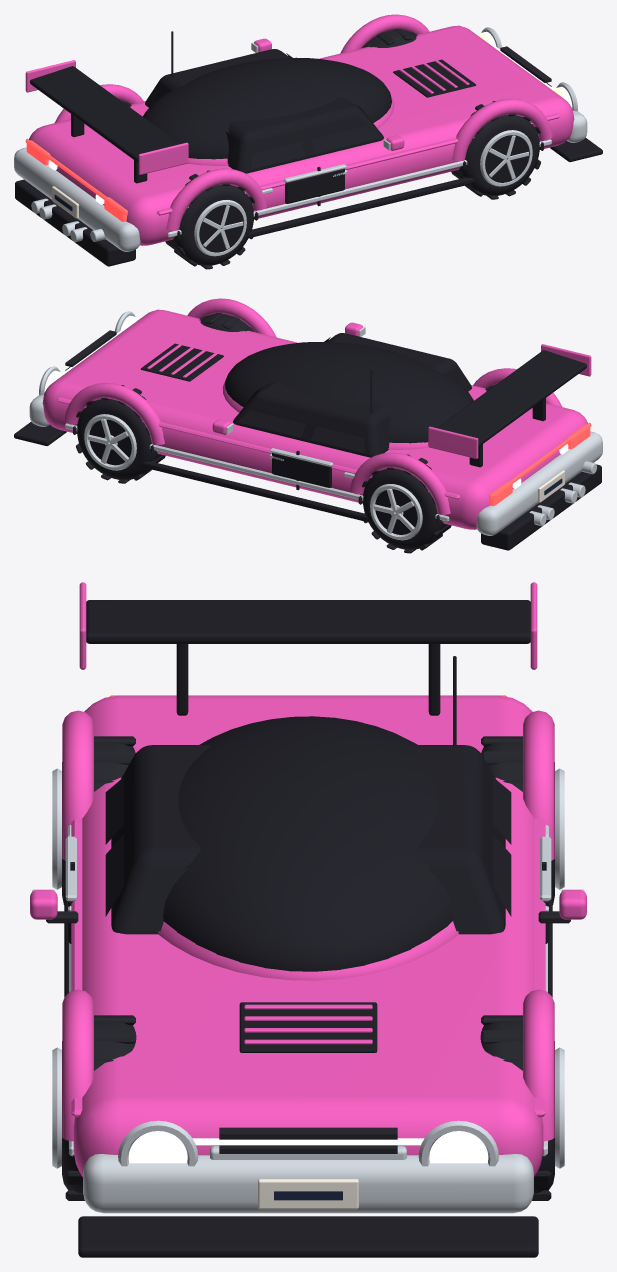
Rendered from supercar.glb.
The picture shows the model from 3 angles, top to bottom: view 1: azimuth 30°, elevation 25°; view 2: azimuth 150°, elevation 25°; view 3: azimuth 270°, elevation 25°; orthographic projection. The views are drawn at different scales.
Parts seen in each view (by area): view 1: supercar; view 2: supercar; view 3: supercar.
Boxes of the visible parts, box(x1,y1,x2,y2) form: supercar: box(14, 14, 602, 269); supercar: box(14, 298, 602, 553); supercar: box(30, 582, 586, 1257).
Bounding box in the file's own units: 4.96 × 1.47 × 2.43.
Materials: 1 (1 with a texture image).
